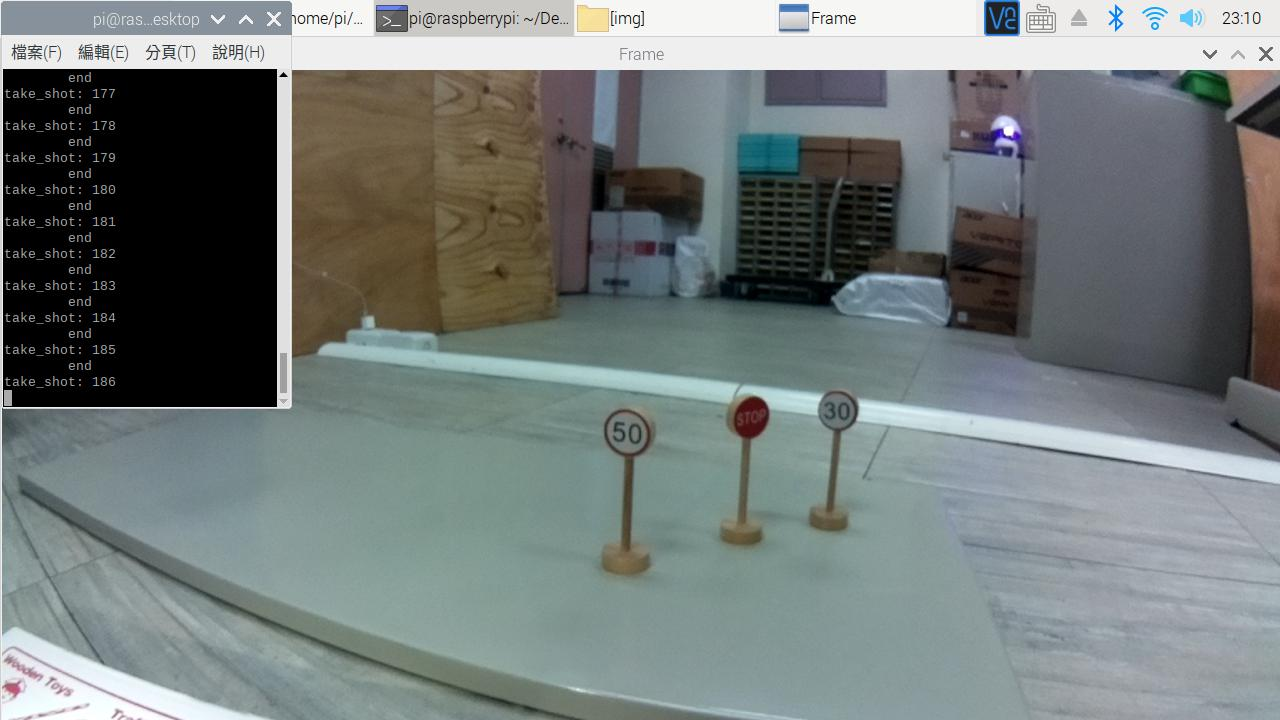Speed30: (809, 385, 874, 443)
Speed50: (598, 403, 655, 469)
Stop: (716, 391, 778, 449)
